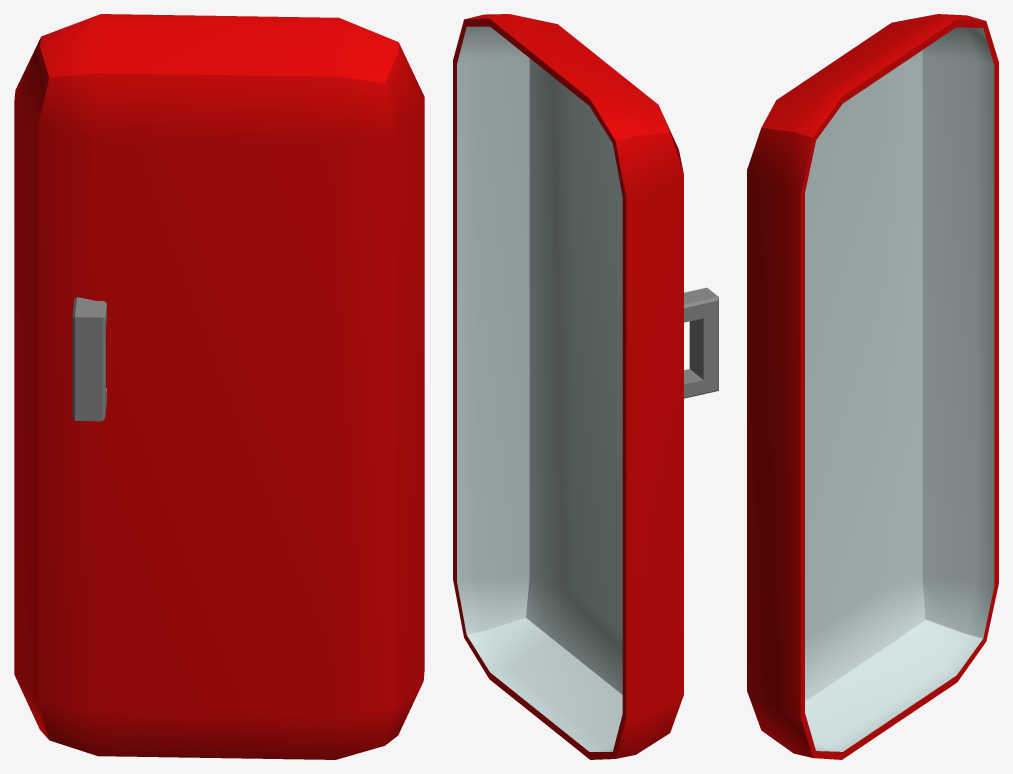
The model's file is PuertaRefrigerador.fbx.
3 renders of one model, left to right at view 1: azimuth 30°, elevation 25°; view 2: azimuth 150°, elevation 25°; view 3: azimuth 270°, elevation 25°, orthographic. The views are drawn at different scales.
Visible parts, largest first — view 1: pCube23; view 2: pCube23; view 3: pCube23.
Boxes of the visible parts, x1,y1,x2,y2 form: pCube23: (14,14,424,759); pCube23: (453,14,718,759); pCube23: (747,14,998,759).
Size of the model in its own units: 19.3 by 41.74 by 14.35.
